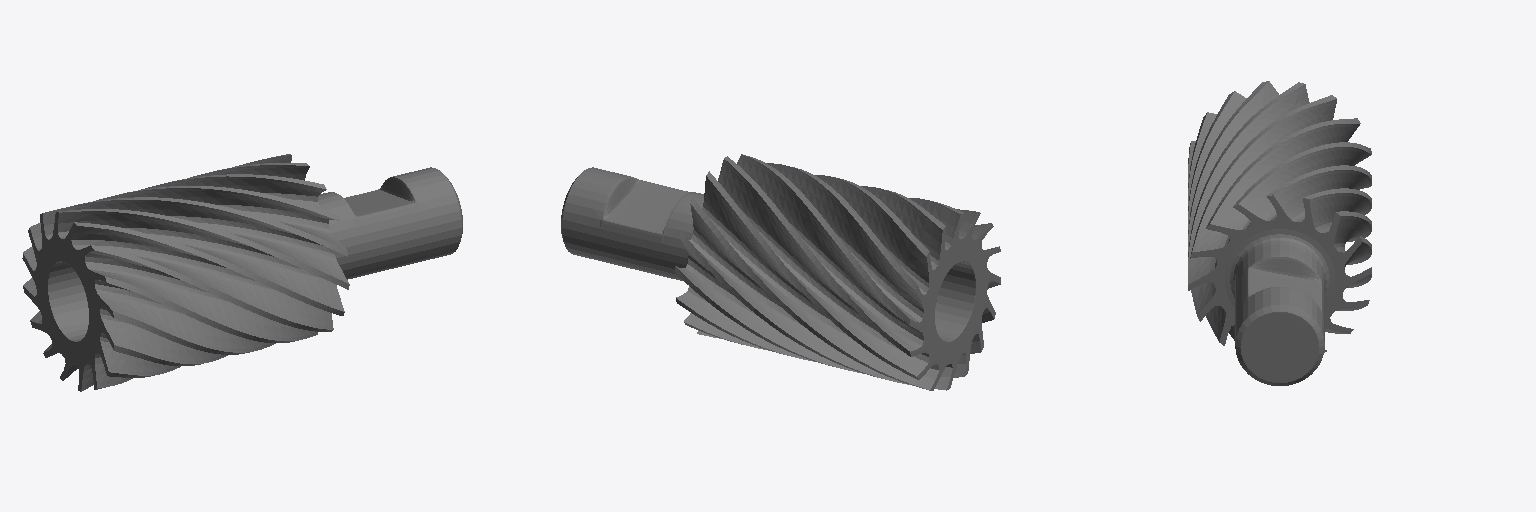
File: MillingCutter_mid.obj
The picture shows the model from 3 angles: view 1: azimuth 30°, elevation 25°; view 2: azimuth 150°, elevation 25°; view 3: azimuth 270°, elevation 25°; orthographic projection.
Parts seen in each view (by area): view 1: MillingCutter; view 2: MillingCutter; view 3: MillingCutter.
Part boxes in pixels (x1,y1,x2,y2): MillingCutter: (22,154,462,391); MillingCutter: (561,154,1000,390); MillingCutter: (1188,81,1371,385).
Bounding box in the file's own units: 3.71 × 1.58 × 1.58.